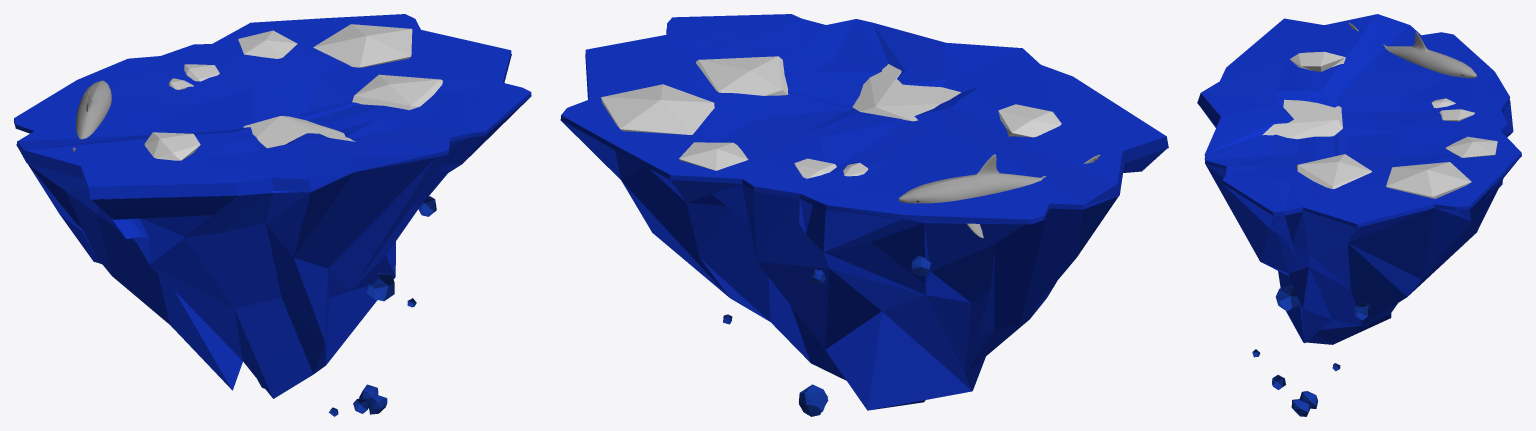
The model's file is sealand_base.obj.
3 renders of one model, left to right at view 1: azimuth 30°, elevation 25°; view 2: azimuth 150°, elevation 25°; view 3: azimuth 270°, elevation 25°, orthographic. The views are drawn at different scales.
Parts seen in each view (by area): view 1: Plane.001_Plane.002, Icosphere.006_Icosphere.022, Icosphere.002_Icosphere, Icosphere.003_Icosphere.021, Shark_01SG1_Untitled, Icosphere.008_Icosphere.024, Icosphere.007_Icosphere.023, Icosphere.001_Icosphere.006, Icosphere.009_Icosphere.010, Icosphere.010_Icosphere.025; view 2: Plane.001_Plane.002, Icosphere.006_Icosphere.022, Icosphere.003_Icosphere.021, Shark_01SG1_Untitled, Icosphere.002_Icosphere, Icosphere.008_Icosphere.024, Icosphere.007_Icosphere.023, Icosphere.001_Icosphere.006, Icosphere.010_Icosphere.025; view 3: Plane.001_Plane.002, Icosphere.006_Icosphere.022, Icosphere.003_Icosphere.021, Icosphere.002_Icosphere, Shark_01SG1_Untitled, Icosphere.001_Icosphere.006, Icosphere.007_Icosphere.023, Icosphere.008_Icosphere.024, Icosphere.009_Icosphere.010, Icosphere.010_Icosphere.025.
Boxes of the visible parts, x1,y1,x2,y2 form: Plane.001_Plane.002: (14, 14, 531, 398); Icosphere.006_Icosphere.022: (313, 24, 412, 67); Icosphere.002_Icosphere: (352, 74, 442, 110); Icosphere.003_Icosphere.021: (243, 116, 355, 148); Shark_01SG1_Untitled: (72, 80, 111, 151); Icosphere.008_Icosphere.024: (144, 132, 200, 160); Icosphere.007_Icosphere.023: (238, 30, 297, 58); Icosphere.001_Icosphere.006: (257, 196, 436, 416); Icosphere.009_Icosphere.010: (366, 272, 394, 301); Icosphere.010_Icosphere.025: (184, 64, 219, 81); Plane.001_Plane.002: (560, 14, 1168, 410); Icosphere.006_Icosphere.022: (601, 84, 714, 134); Icosphere.003_Icosphere.021: (852, 64, 961, 121); Shark_01SG1_Untitled: (898, 154, 1100, 238); Icosphere.002_Icosphere: (696, 56, 788, 95); Icosphere.008_Icosphere.024: (998, 104, 1061, 137); Icosphere.007_Icosphere.023: (679, 142, 748, 170); Icosphere.001_Icosphere.006: (723, 314, 828, 416); Icosphere.010_Icosphere.025: (794, 158, 836, 178); Plane.001_Plane.002: (1197, 14, 1521, 344); Icosphere.006_Icosphere.022: (1386, 162, 1471, 198); Icosphere.003_Icosphere.021: (1262, 99, 1342, 139); Icosphere.002_Icosphere: (1296, 154, 1371, 189); Shark_01SG1_Untitled: (1348, 23, 1476, 78); Icosphere.001_Icosphere.006: (1252, 301, 1371, 416); Icosphere.007_Icosphere.023: (1446, 136, 1497, 157); Icosphere.008_Icosphere.024: (1290, 51, 1345, 71); Icosphere.009_Icosphere.010: (1275, 284, 1300, 311); Icosphere.010_Icosphere.025: (1439, 109, 1474, 121).
Size of the model in its own units: 39.44 by 26.05 by 26.54.
